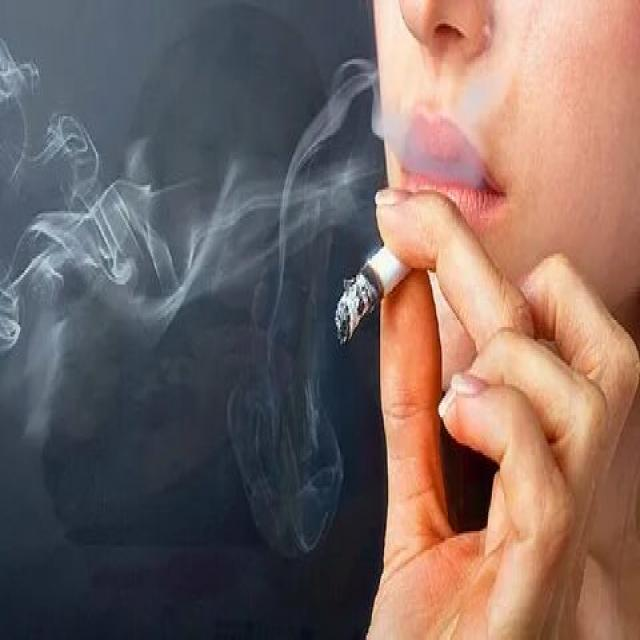cigarette: (329, 242, 415, 351)
